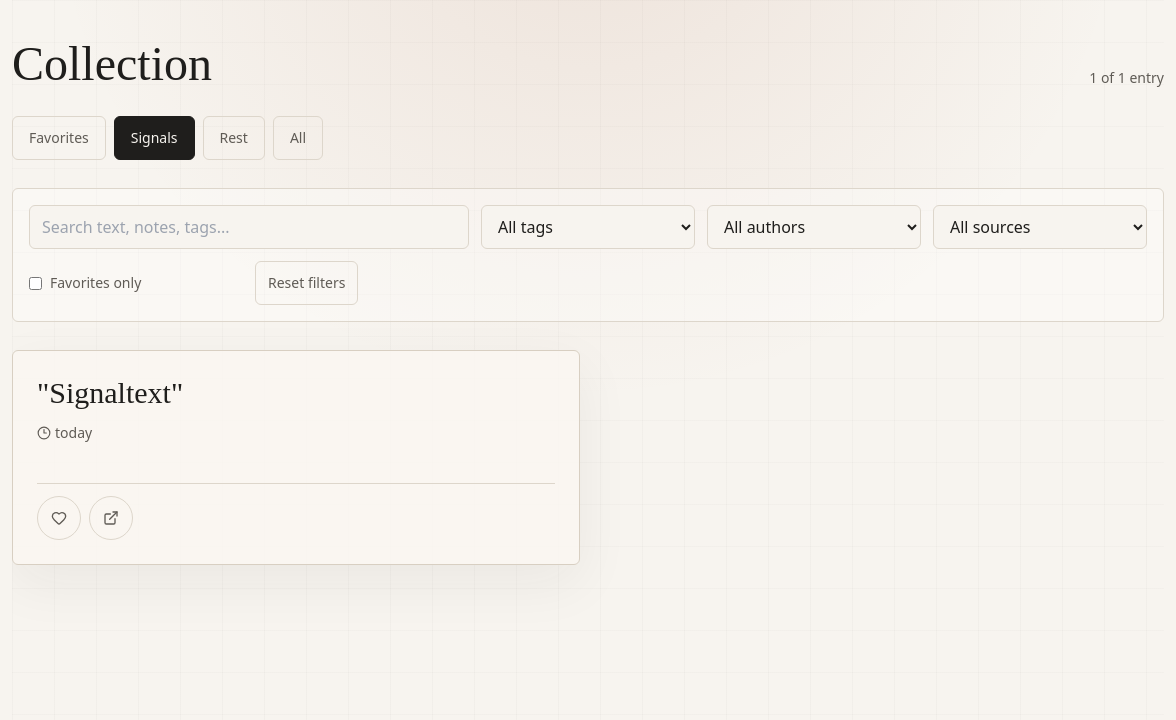
LibraryPage › applies the other filters within the chosen view
Step 1. Click the button "All" → (298, 138), box [273, 116, 323, 160]
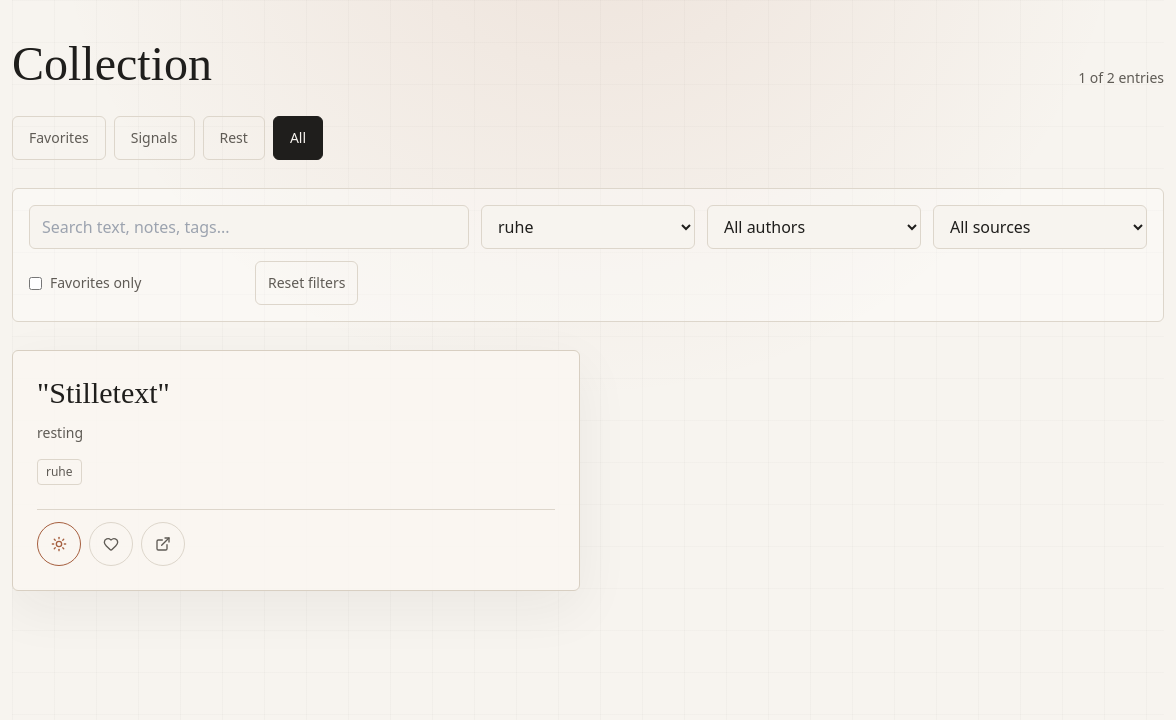
Result: the text "\"Signaltext\"" is gone
Result: the text "\"Stilletext\"" is shown at [37, 376, 170, 409]
